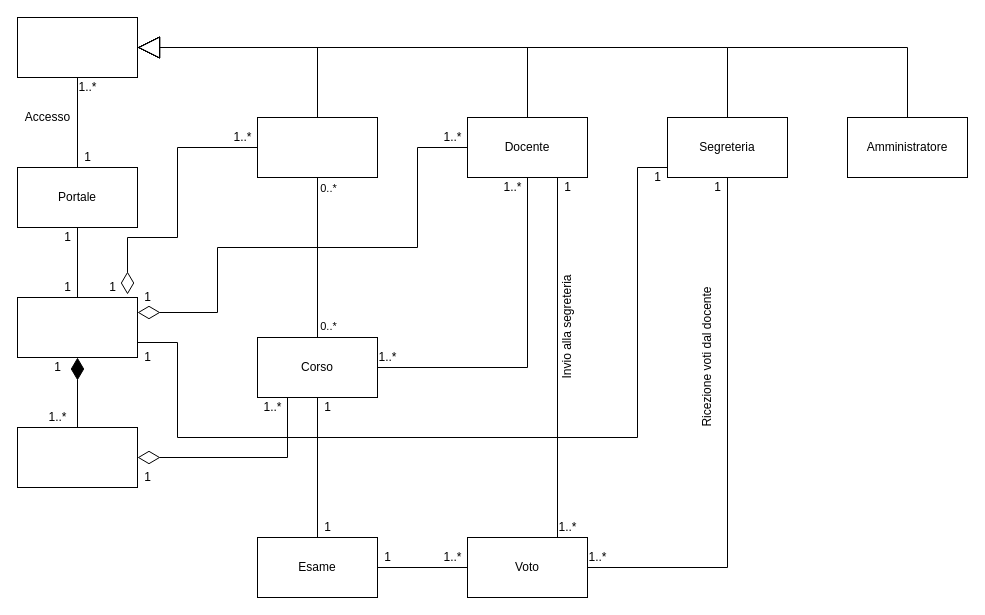
Image size: 985x615. Some labels were removed from this diagram. Each missing label, with the centre of its shape:
Dipartimento: (x=77, y=457)
Studente: (x=317, y=147)
Università: (x=77, y=327)
Utente: (x=77, y=47)
